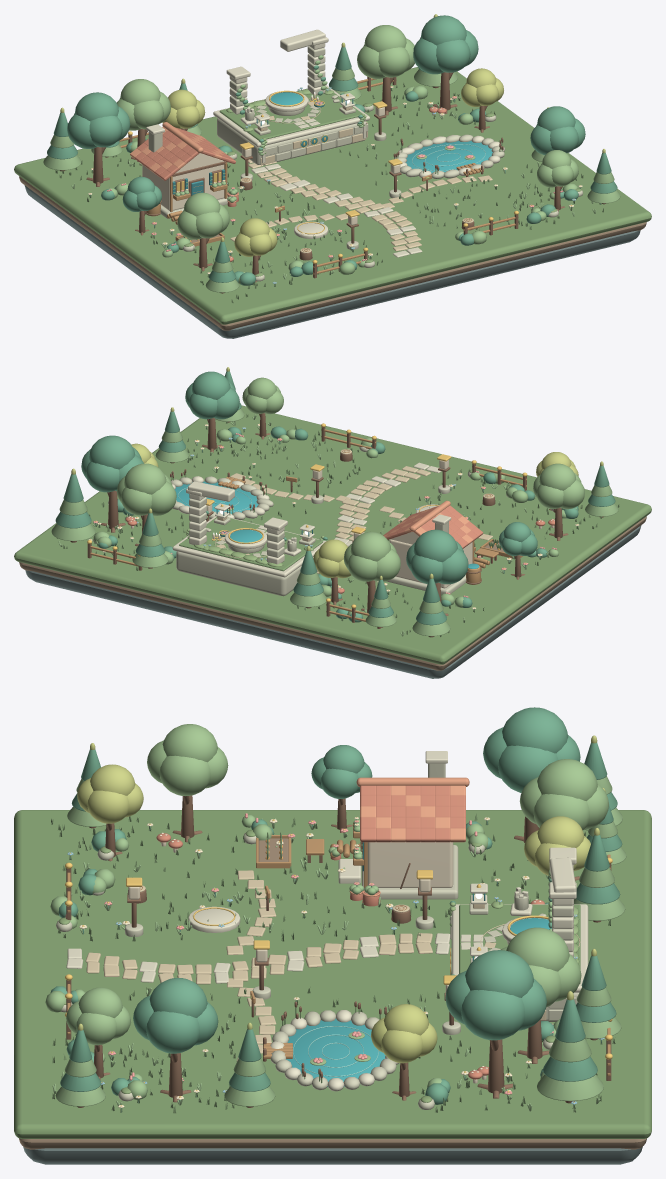
Rendered from island.glb.
3 renders of one model, top to bottom at view 1: azimuth 30°, elevation 25°; view 2: azimuth 150°, elevation 25°; view 3: azimuth 270°, elevation 25°, orthographic. The views are drawn at different scales.
Visible parts, largest first — view 1: island / material batches; view 2: island / material batches; view 3: island / material batches.
Boxes of the visible parts, x1,y1,x2,y2 form: island / material batches: (14,14,651,338); island / material batches: (14,367,651,678); island / material batches: (14,707,651,1164).
Bounding box in the file's own units: 25.5 × 6.88 × 21.5.
